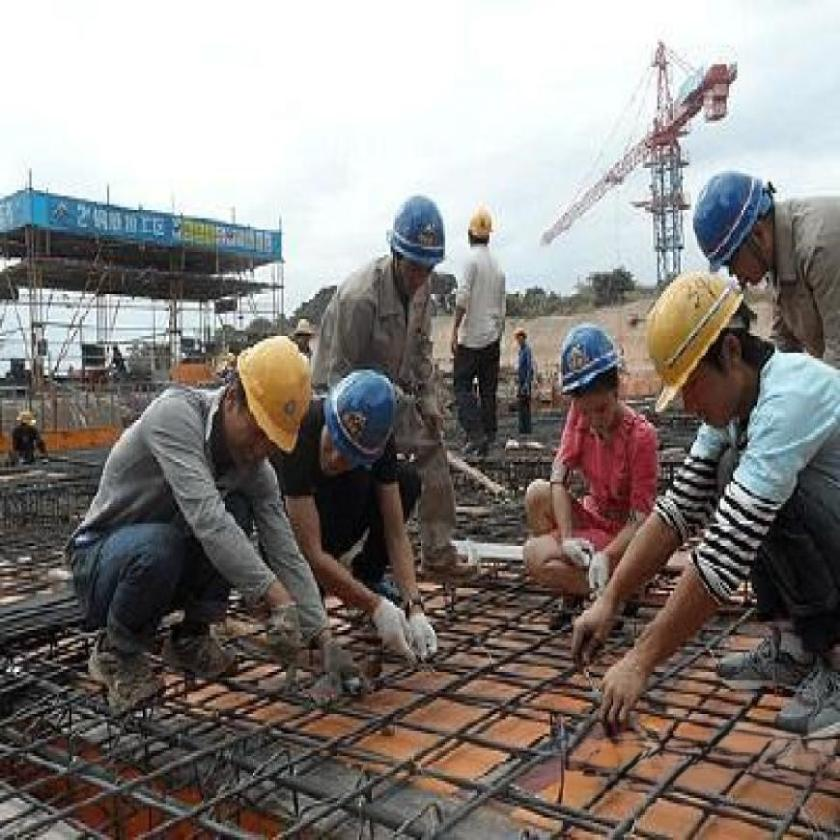Con_casco: (645, 264, 751, 444), (228, 325, 314, 498), (320, 364, 400, 493), (694, 163, 774, 290), (558, 316, 621, 449), (386, 190, 451, 307)
